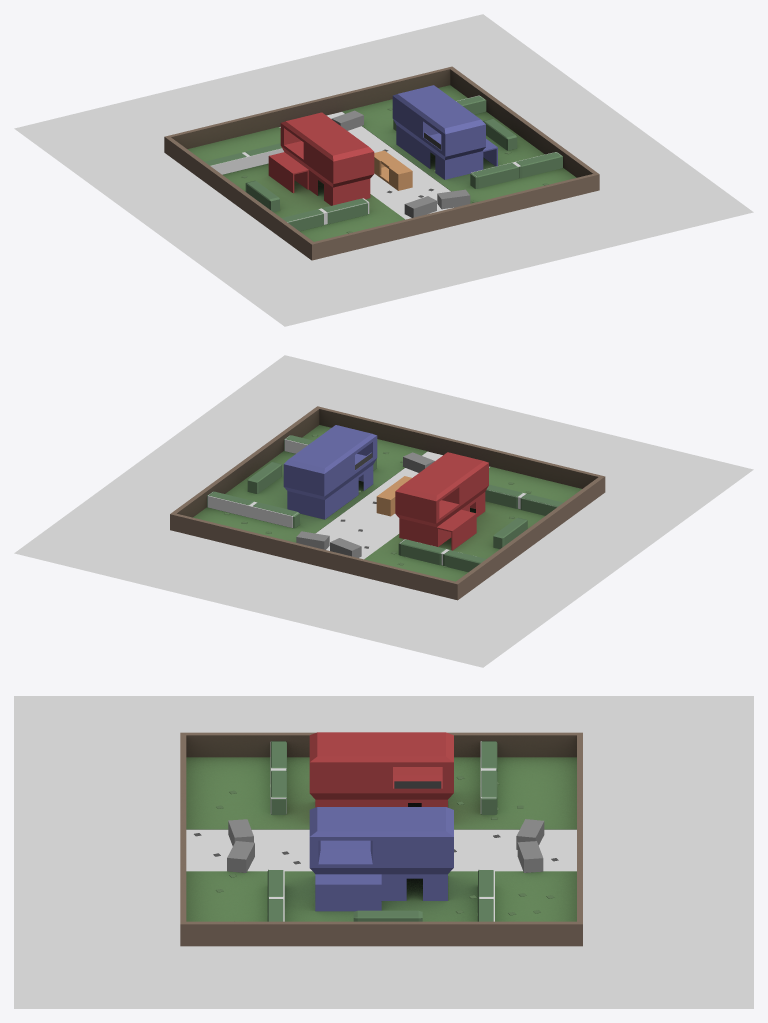
File: nuketown.glb
3 renders of one model, top to bottom at view 1: azimuth 30°, elevation 25°; view 2: azimuth 150°, elevation 25°; view 3: azimuth 270°, elevation 25°, orthographic. The views are drawn at different scales.
Parts seen in each view (by area): view 1: Plane.001, Plane, Cube.003, Cube.004, Cube.002, Cube.036, Cube.037, Cube.039, Cube.060, Cube.038, Cube.040, Cube.043 (+2 smaller); view 2: Plane.001, Plane, Cube.003, Cube.004, Cube.061, Cube.041, Cube.038, Cube.002, Cube.040, Cube.042, Cube.039, Cube.043; view 3: Plane.001, Plane, Cube.004, Cube.003, Cube.038, Cube.041, Cube.046, Cube.045, Cube.039, Cube.044, Cube.047.
Part boxes in pixels (<box>): Plane.001: <box>14,14,753,326</box>; Plane: <box>164,66,599,260</box>; Cube.003: <box>268,112,374,205</box>; Cube.004: <box>392,85,497,179</box>; Cube.002: <box>374,150,412,190</box>; Cube.036: <box>470,163,519,188</box>; Cube.037: <box>516,152,562,178</box>; Cube.039: <box>322,198,368,224</box>; Cube.060: <box>210,148,283,174</box>; Cube.038: <box>483,118,517,150</box>; Cube.040: <box>281,209,324,231</box>; Cube.043: <box>245,180,279,211</box>; Plane.001: <box>14,355,753,667</box>; Plane: <box>170,406,605,600</box>; Cube.003: <box>395,452,488,550</box>; Cube.004: <box>283,425,377,519</box>; Cube.061: <box>207,492,297,527</box>; Cube.041: <box>398,539,445,565</box>; Cube.038: <box>247,462,282,493</box>; Cube.002: <box>376,476,411,516</box>; Cube.040: <box>519,494,563,515</box>; Cube.042: <box>443,550,486,572</box>; Cube.039: <box>485,484,522,508</box>; Cube.043: <box>493,517,527,548</box>; Plane.001: <box>14,696,753,1008</box>; Plane: <box>180,732,582,946</box>; Cube.004: <box>309,807,453,911</box>; Cube.003: <box>309,732,453,807</box>; Cube.038: <box>353,910,422,921</box>; Cube.041: <box>481,770,497,814</box>; Cube.046: <box>227,841,254,872</box>; Cube.045: <box>517,841,543,872</box>; Cube.039: <box>271,770,286,814</box>; Cube.044: <box>516,819,544,849</box>; Cube.047: <box>228,819,253,846</box>.
Bounding box in the file's own units: 80 × 11.47 × 80.
11 materials, 3 textured.
